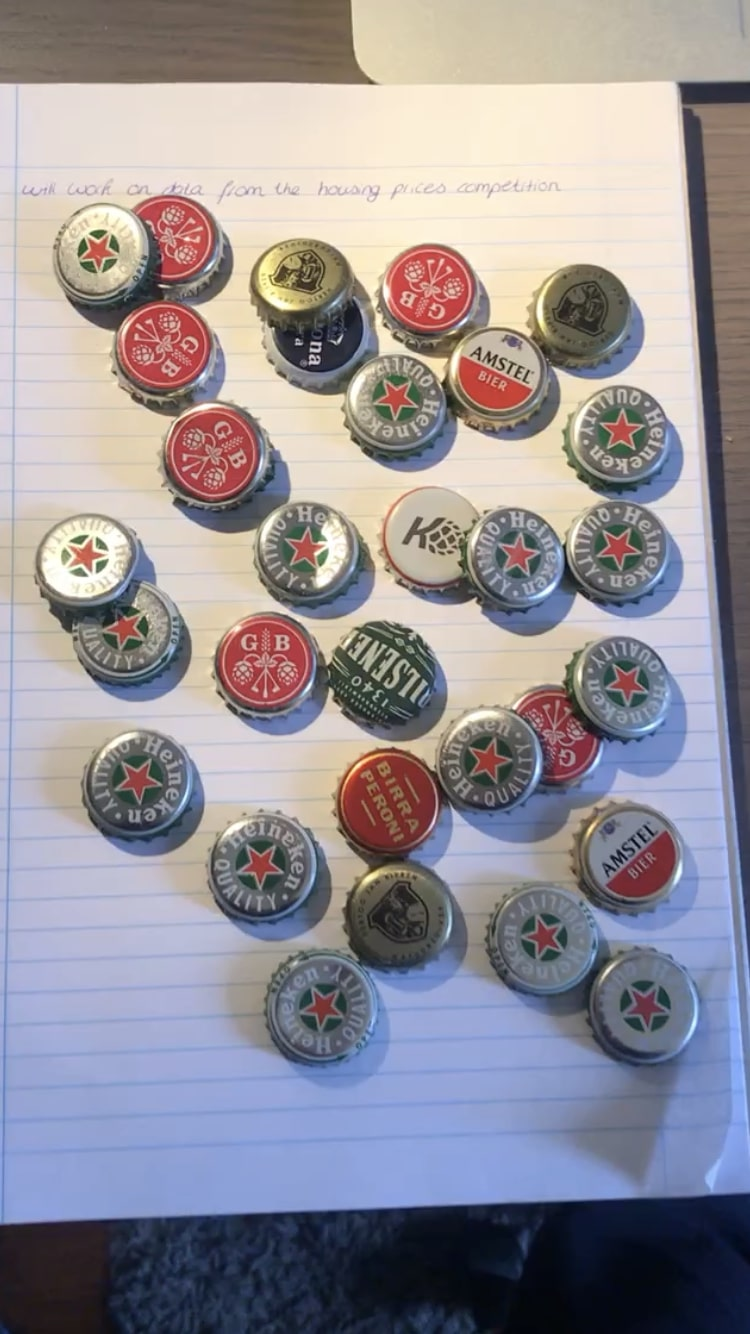amstel: (565, 795, 695, 926), (441, 316, 555, 440)
brand: (324, 620, 441, 731)
corona: (268, 300, 372, 392)
grolsch: (209, 610, 323, 729), (157, 396, 272, 513), (372, 238, 483, 353), (112, 296, 220, 406), (124, 193, 231, 298)
heineken: (259, 948, 383, 1084), (476, 875, 602, 1005), (76, 727, 205, 850), (199, 812, 320, 937), (588, 943, 706, 1071), (67, 575, 188, 699), (562, 624, 676, 751), (561, 496, 678, 612), (434, 702, 543, 822), (559, 382, 674, 491), (338, 351, 451, 461), (255, 500, 362, 606), (48, 202, 154, 309), (464, 506, 567, 616), (36, 512, 137, 614)
hertog jan: (340, 860, 459, 979), (526, 254, 638, 376), (244, 231, 361, 331)
kornuit: (382, 481, 485, 602)
